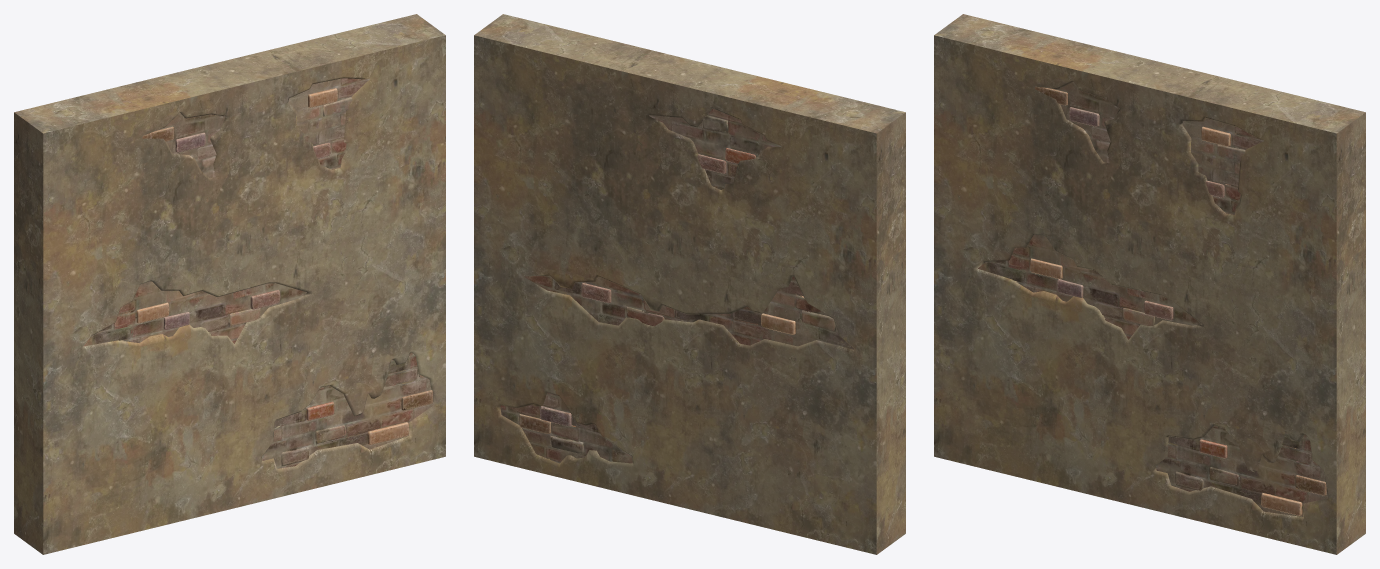
3 views of the same model, side by side, from view 1: azimuth 30°, elevation 25°; view 2: azimuth 150°, elevation 25°; view 3: azimuth 330°, elevation 25° (orthographic).
Visible parts, largest first — view 1: SM_Human_Ruins_Wall_01_LOD0; view 2: SM_Human_Ruins_Wall_01_LOD0; view 3: SM_Human_Ruins_Wall_01_LOD0.
Boxes of the visible parts, box(x1,y1,x2,y2) form: SM_Human_Ruins_Wall_01_LOD0: box(14, 14, 445, 554); SM_Human_Ruins_Wall_01_LOD0: box(474, 14, 905, 554); SM_Human_Ruins_Wall_01_LOD0: box(934, 14, 1365, 554).
Bounding box in the file's own units: 4 × 4 × 0.5015.
Materials: 3 (3 with a texture image).
